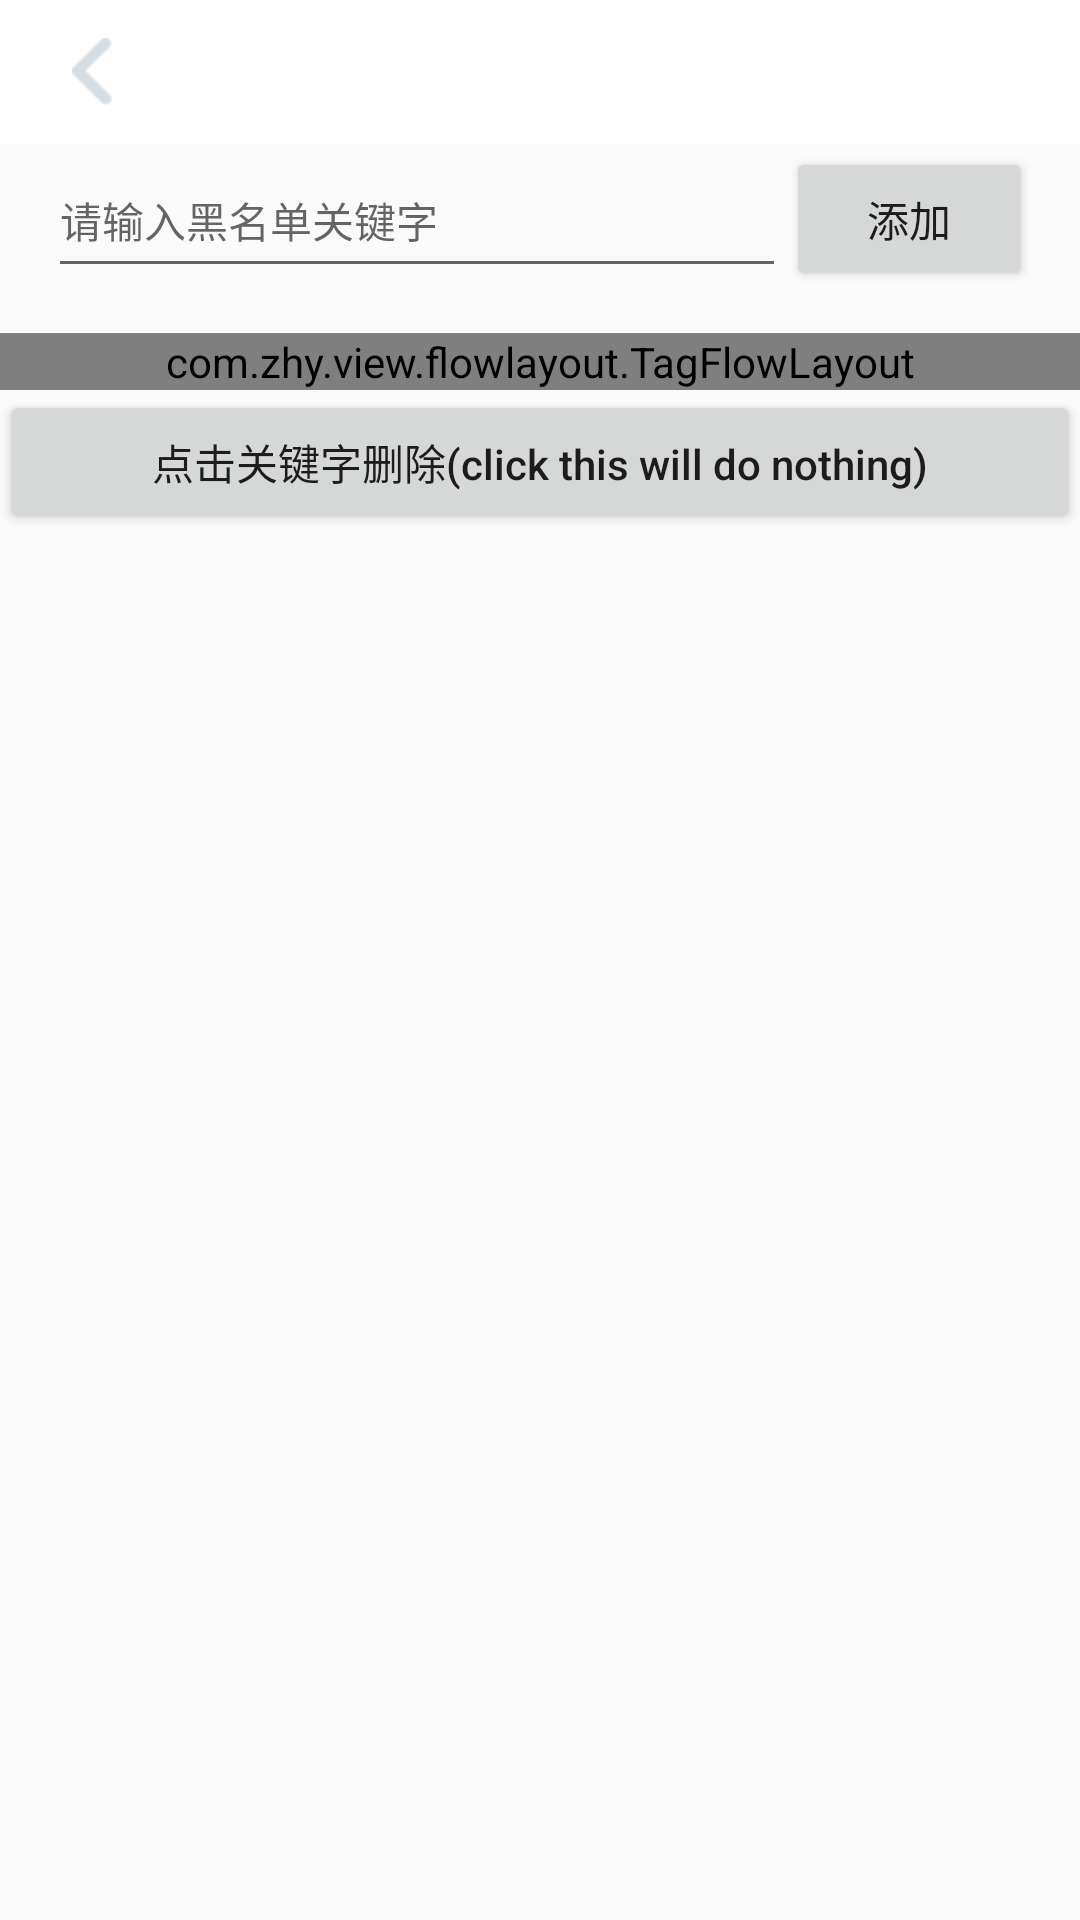

Icon click points for this 1080 × 1920 phone screenshot, format (x,y):
back: (92,71)
